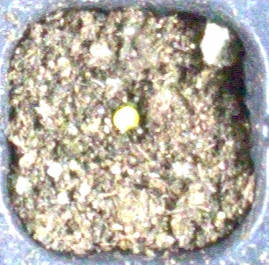pepper seed: (42, 40, 184, 173)
